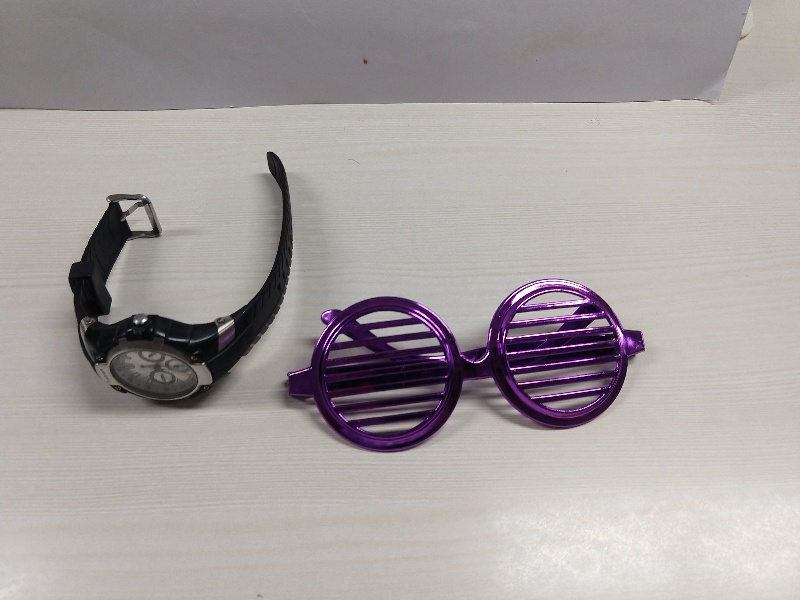shades: (292, 267, 647, 456)
watch: (51, 143, 289, 405)
